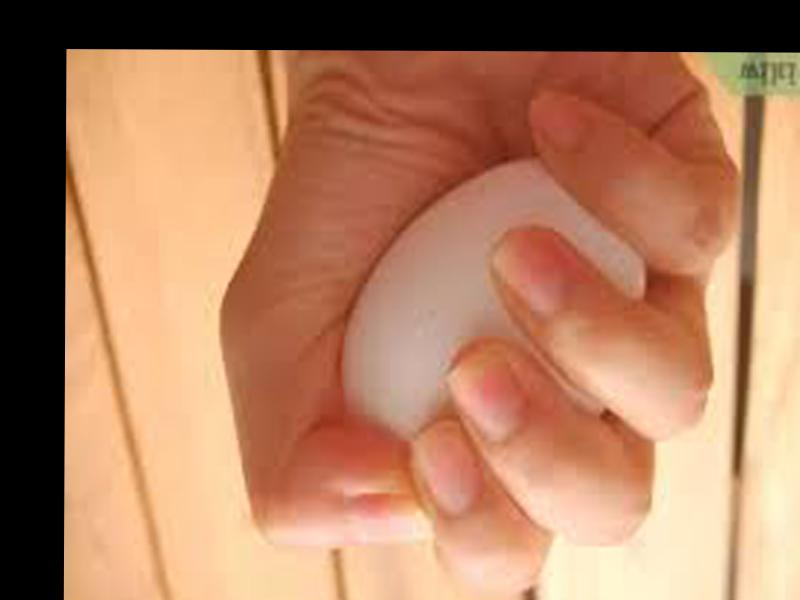Eggs: (341, 158, 651, 474)
